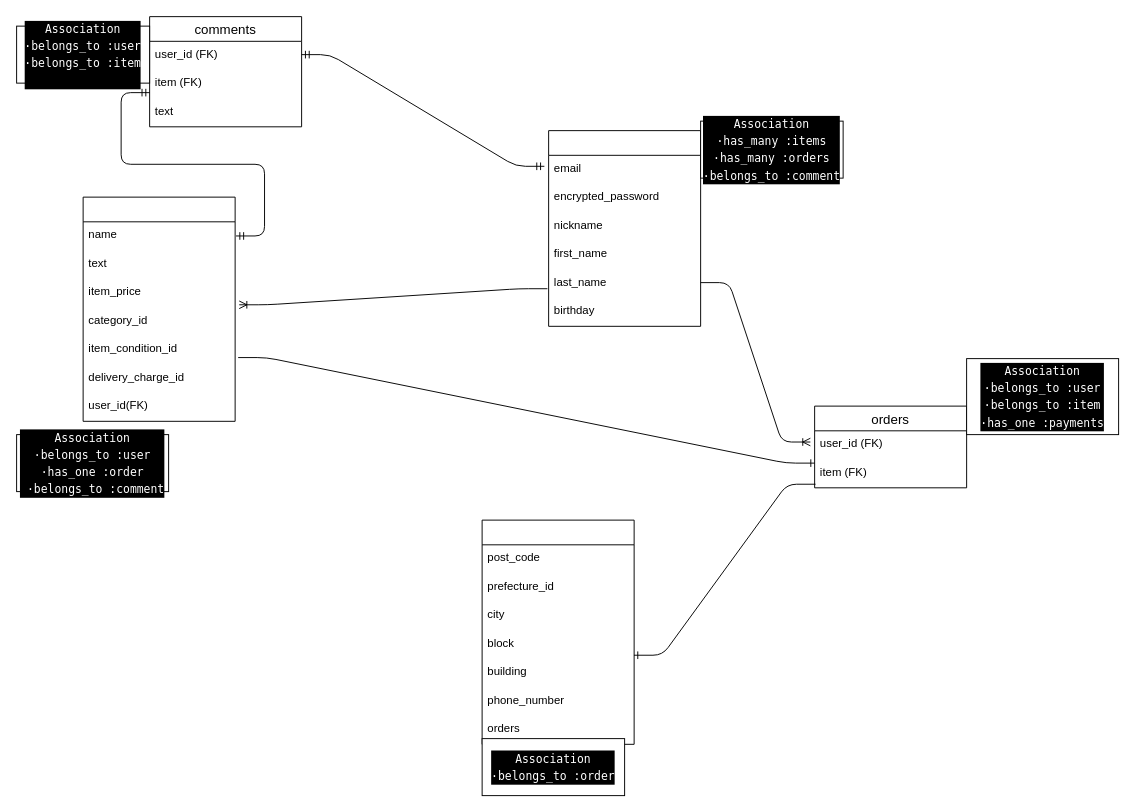
This 1135x812 diagram has some shape labels left out. The box of each missing label's shape, as (x1, y1, x2, y2) in pixels:
items: (82, 196, 235, 421)
payments: (481, 519, 634, 744)
users: (548, 130, 701, 326)
